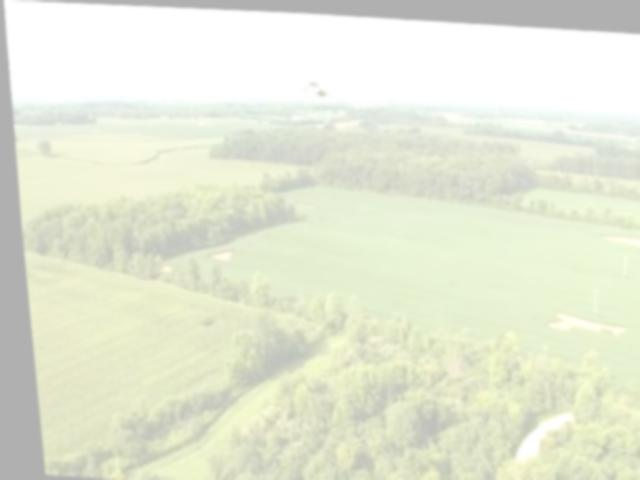uav: (248, 58, 397, 117)
